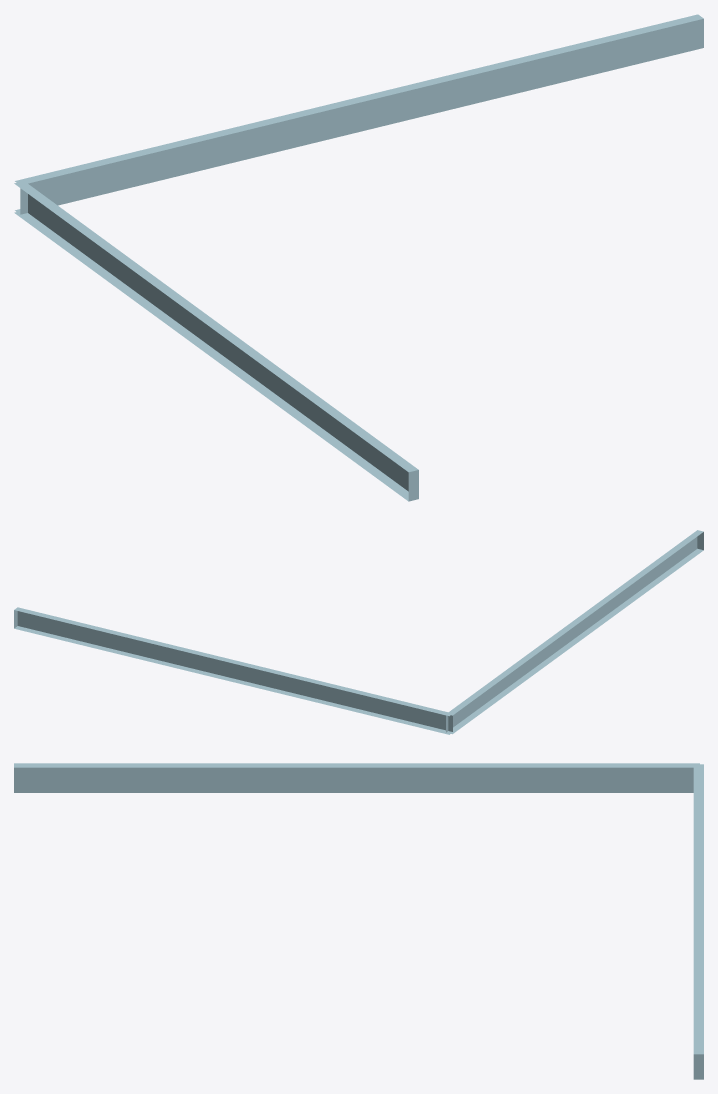
File: Bedroom_2_Skirting.fbx
3 views of the same model, one above another, from view 1: azimuth 30°, elevation 25°; view 2: azimuth 150°, elevation 25°; view 3: azimuth 270°, elevation 25° (orthographic). The views are drawn at different scales.
Visible parts, largest first — view 1: Bedroom_2_Skirting; view 2: Bedroom_2_Skirting; view 3: Bedroom_2_Skirting.
Boxes of the visible parts, x1,y1,x2,y2 form: Bedroom_2_Skirting: (14,14,703,501); Bedroom_2_Skirting: (14,530,703,734); Bedroom_2_Skirting: (14,763,703,1079).
Bounding box in the file's own units: 491 × 20.01 × 492.
